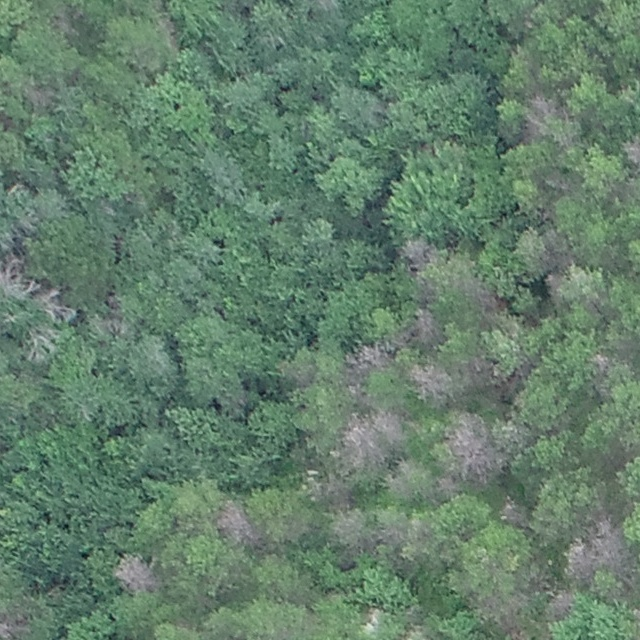unhealthy: (444, 411, 506, 485), (567, 515, 627, 579), (520, 95, 573, 149), (339, 414, 381, 466), (212, 501, 255, 547), (456, 275, 504, 315), (406, 363, 452, 404), (114, 552, 157, 592), (329, 507, 367, 552), (306, 472, 353, 508), (21, 326, 64, 363), (462, 354, 505, 390), (345, 342, 393, 374), (33, 287, 75, 321), (397, 235, 438, 269), (375, 518, 415, 549), (386, 463, 418, 501), (382, 404, 416, 439), (1, 253, 28, 297), (410, 305, 441, 342), (22, 81, 58, 110), (500, 497, 532, 527), (0, 607, 27, 640), (547, 588, 577, 616), (542, 170, 576, 194), (620, 131, 639, 172), (589, 350, 611, 374), (504, 627, 532, 640)
